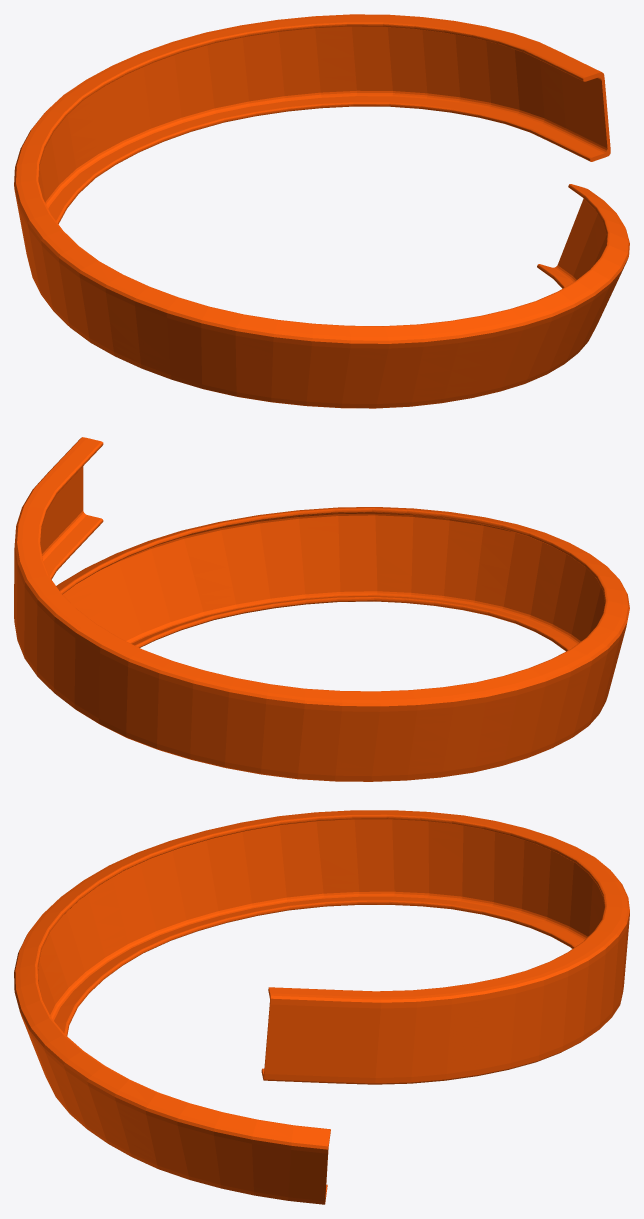
Rendered from Metade Twist.FBX.
3 renders of one model, top to bottom at view 1: azimuth 30°, elevation 25°; view 2: azimuth 150°, elevation 25°; view 3: azimuth 270°, elevation 25°, orthographic. The views are drawn at different scales.
Visible parts, largest first — view 1: Metade Twist; view 2: Metade Twist; view 3: Metade Twist.
Part boxes in pixels (x1,y1,x2,y2): Metade Twist: (14,14,629,408); Metade Twist: (14,437,629,781); Metade Twist: (14,810,629,1204).
Bounding box in the file's own units: 1691 × 650 × 1660.
